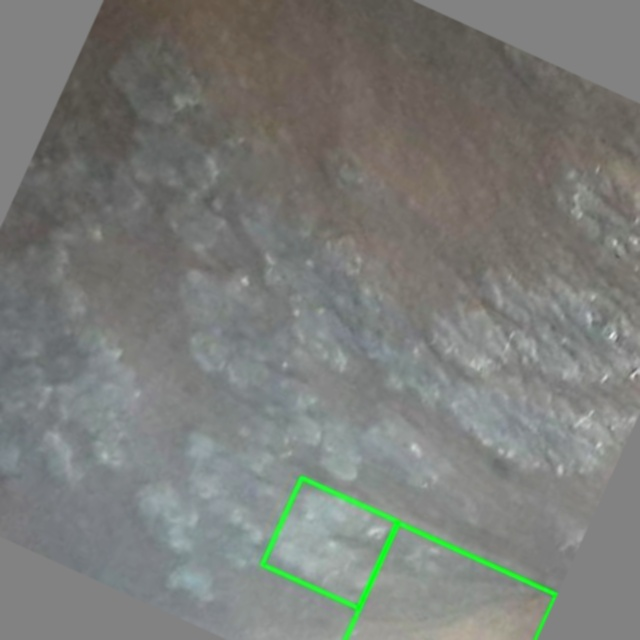Seborrheic Dermatitis: (262, 477, 397, 608)
